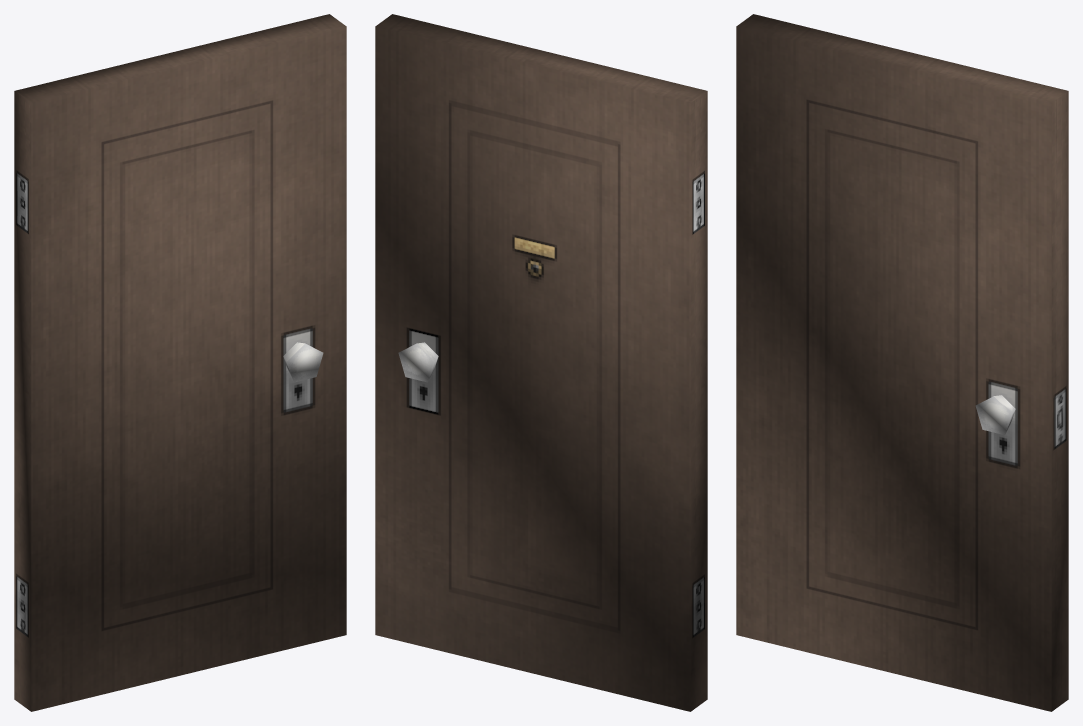
File: Door.fbx
3 views of the same model, side by side, from view 1: azimuth 30°, elevation 25°; view 2: azimuth 150°, elevation 25°; view 3: azimuth 330°, elevation 25° (orthographic).
Parts seen in each view (by area): view 1: Door; view 2: Door; view 3: Door.
Part boxes in pixels (x1,y1,x2,y2): Door: (14, 14, 346, 711); Door: (375, 14, 707, 711); Door: (736, 14, 1068, 711).
Bounding box in the file's own units: 166 × 30.63 × 307.
Materials: 1 (1 with a texture image).
